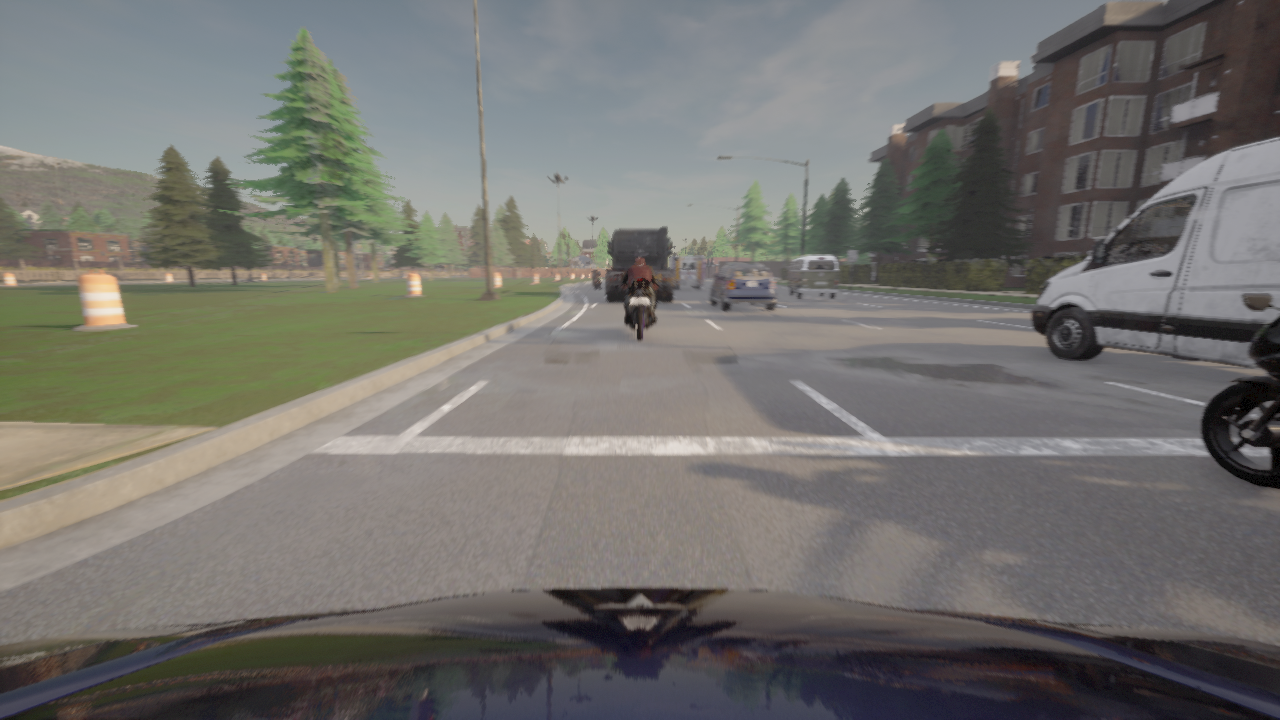cyclist: (0, 588, 1279, 719), (1032, 137, 1279, 368), (1200, 294, 1279, 489), (606, 227, 673, 302), (711, 263, 776, 310), (619, 274, 660, 342), (786, 255, 839, 299), (667, 256, 704, 289), (593, 278, 598, 288)
